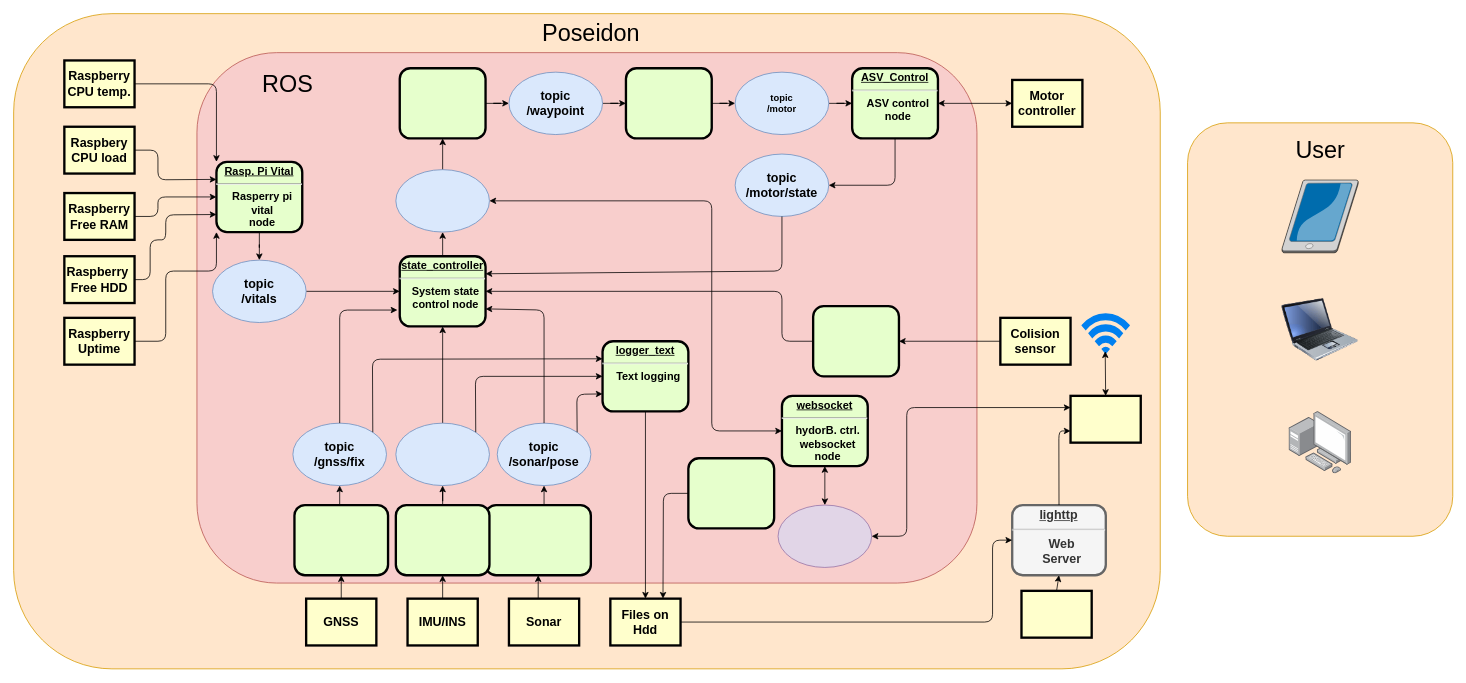
Image size: 1466x683. Some labels were removed from this diagram. Each missing label, with the centre of its shape:
"colision_det. Colision detection node" belongs at pixel 856 341.
"gnss_zed-f9p Binary gps raw logging" belongs at pixel 731 493.
"goal_planner goal planner node" belongs at pixel 442 103.
"gpsd_Client Node GPS" belongs at pixel 341 539.
"imu_Client Node IMU" belongs at pixel 442 539.
"pilot pilot node" belongs at pixel 668 103.
"sonar_Client Node Sonar" belongs at pixel 538 539.
"topic /imu/imu" belongs at pixel 442 454.
"topic /state" belongs at pixel 442 200.
"Web site on Hdd" belongs at pixel 1056 613.
"Websocket" belongs at pixel 824 535.
"Wifi" belongs at pixel 1105 418.
